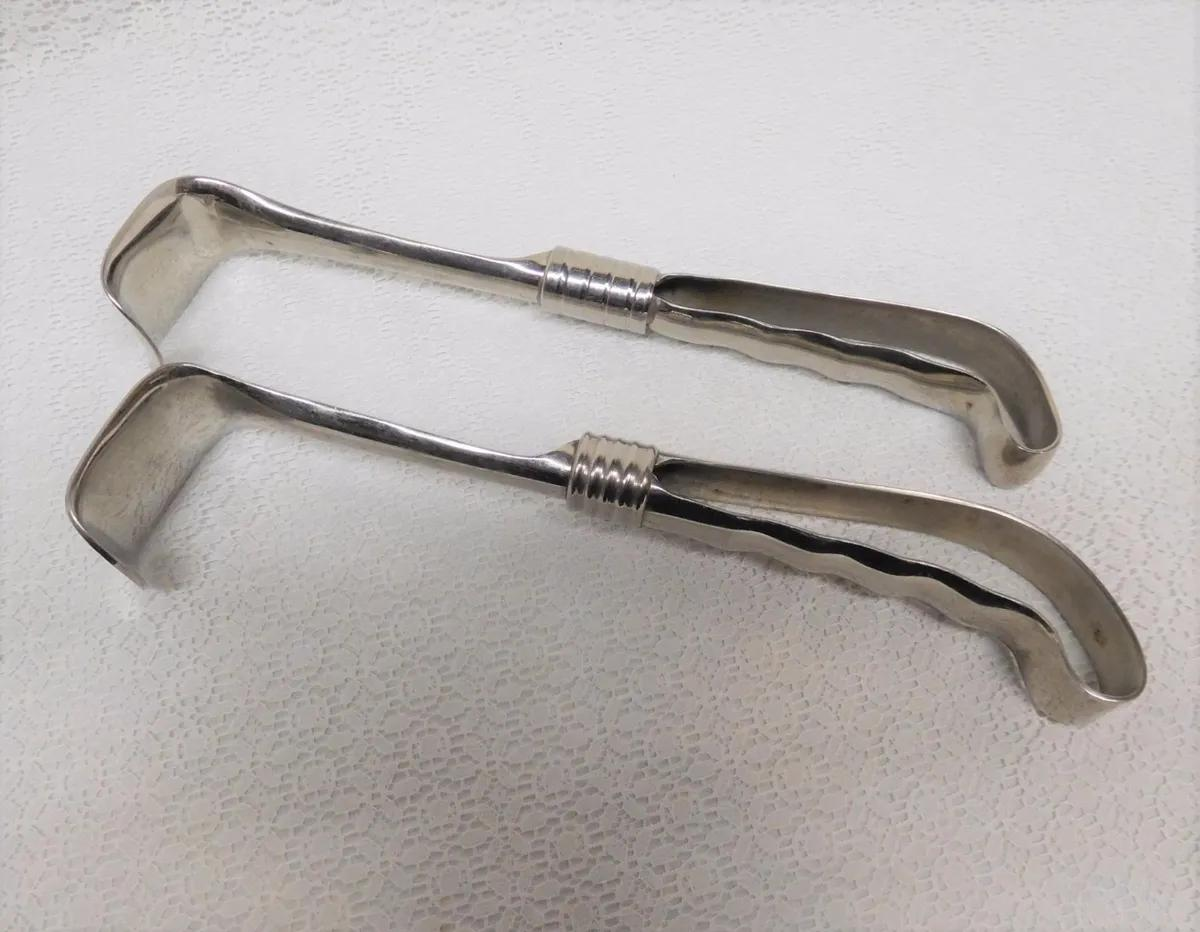Kelly Retractor: (46, 356, 1154, 724), (109, 143, 1073, 489)
